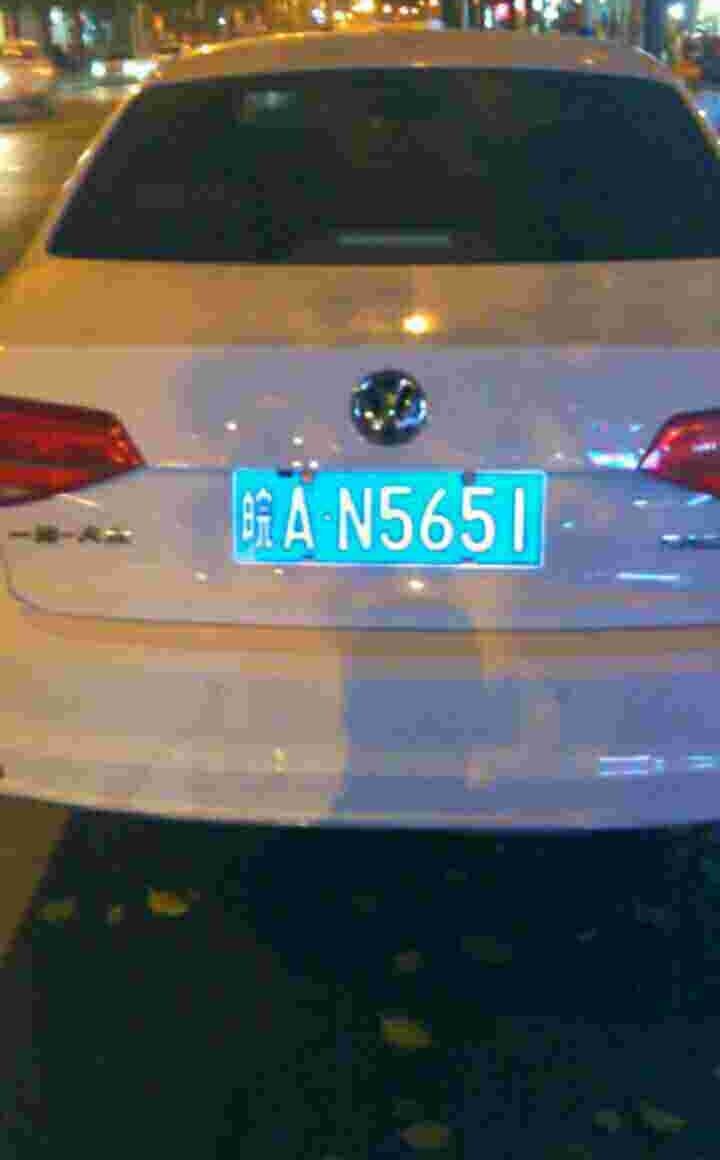license_plate: (226, 464, 539, 575)
